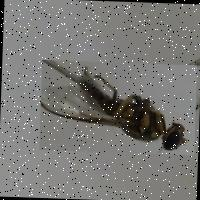Oriental-fruit-fly: (38, 59, 196, 154)
